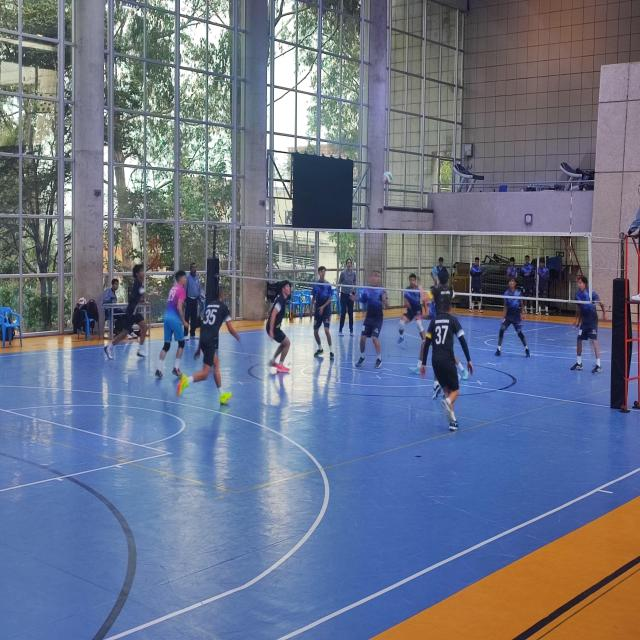volleyball: (382, 171, 392, 184), (78, 296, 87, 308)
